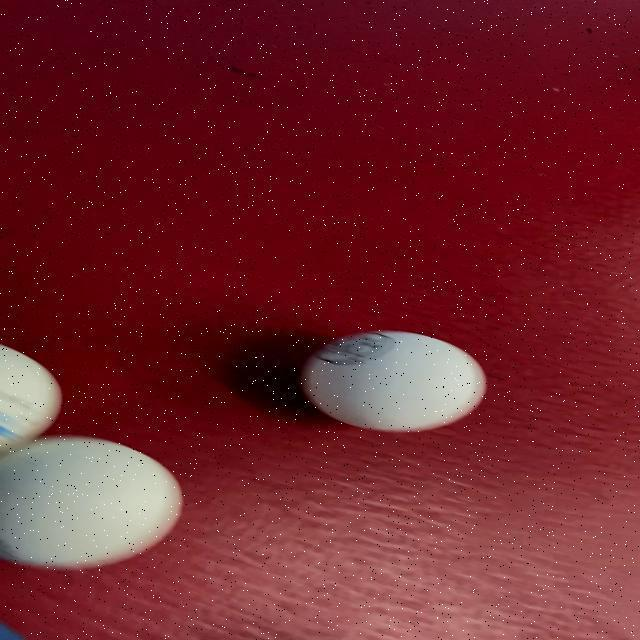ping-pong-ball: (294, 329, 496, 436)
